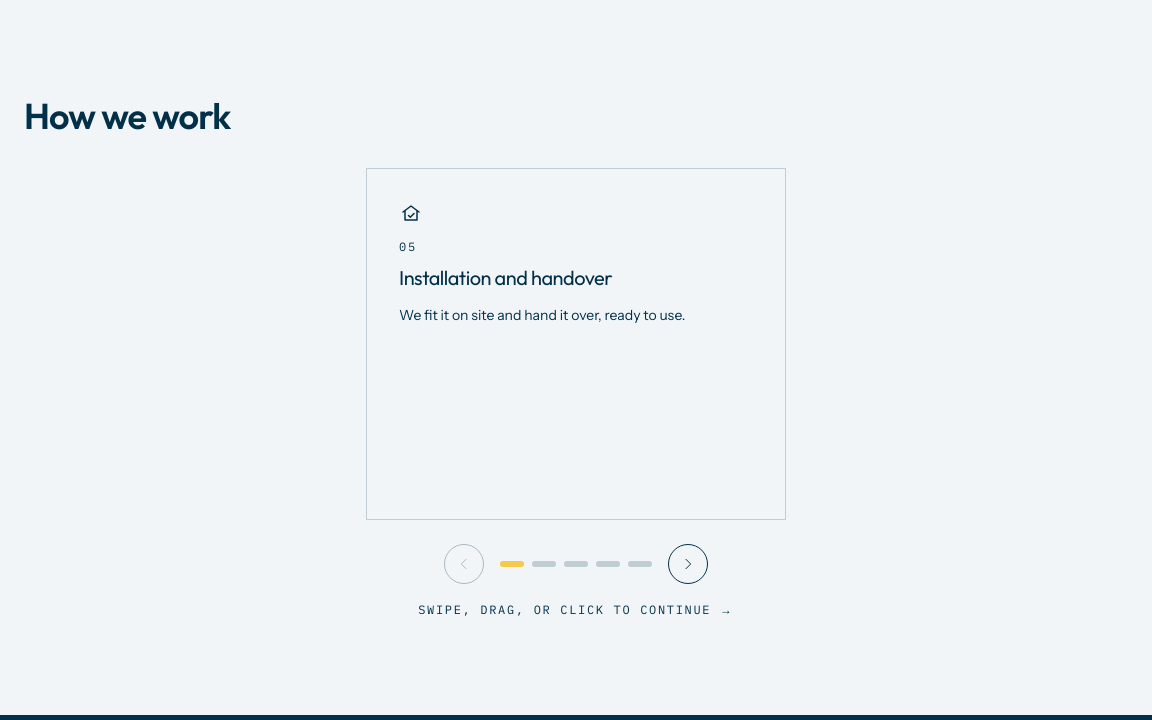
Test: HowWeWork › at full motion (page-turning book) › disables the previous button on the first page and the next button on the last
Expected: the button named "Previous step" is disabled, x1=444 y1=544 x2=484 y2=584
What coordinates should you click on to do the following:
click the button named "Next step"
I would click on:
 (688, 564)
Its box is x1=668 y1=544 x2=708 y2=584.
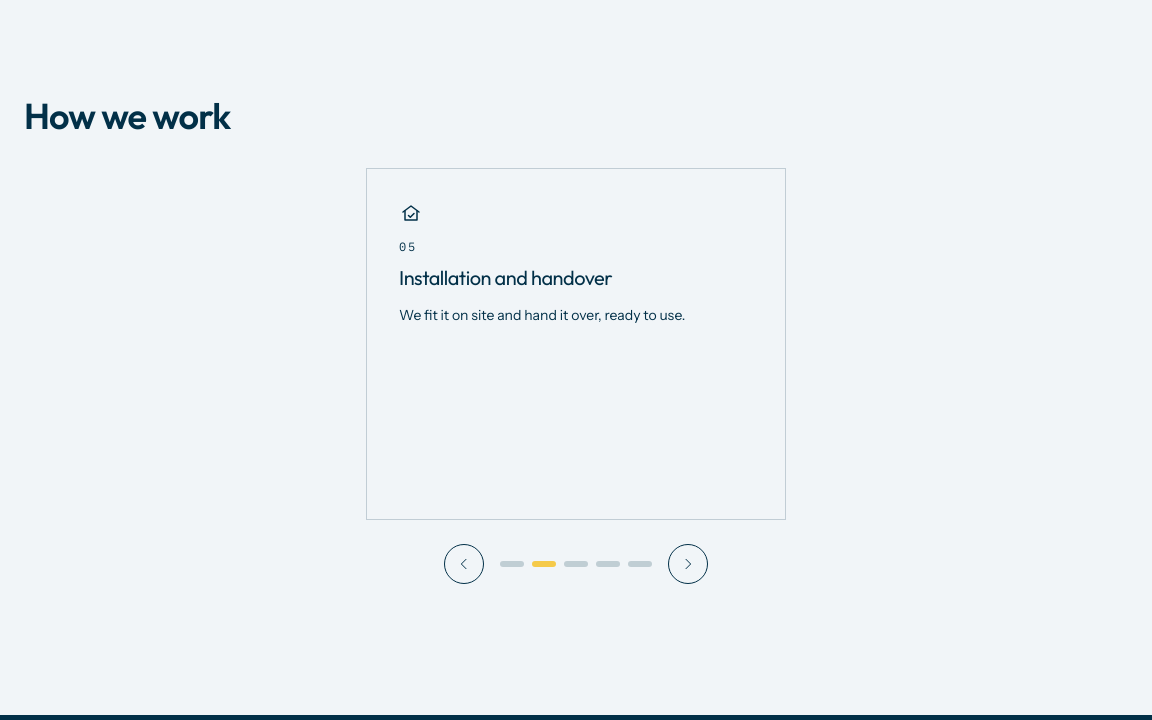
What coordinates should you click on to do the following:
click the button named "Next step"
I would click on:
 (688, 564)
Its box is x1=668 y1=544 x2=708 y2=584.
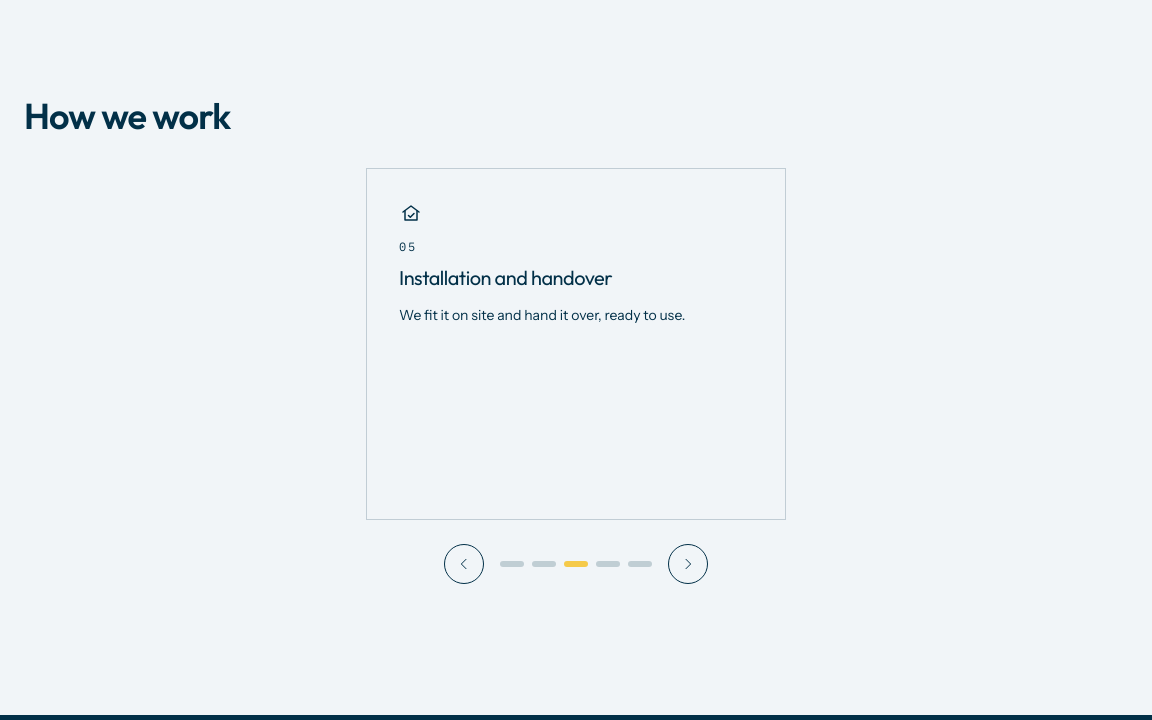
What coordinates should you click on to do the following:
click the button named "Next step"
I would click on:
 (688, 564)
Its box is x1=668 y1=544 x2=708 y2=584.
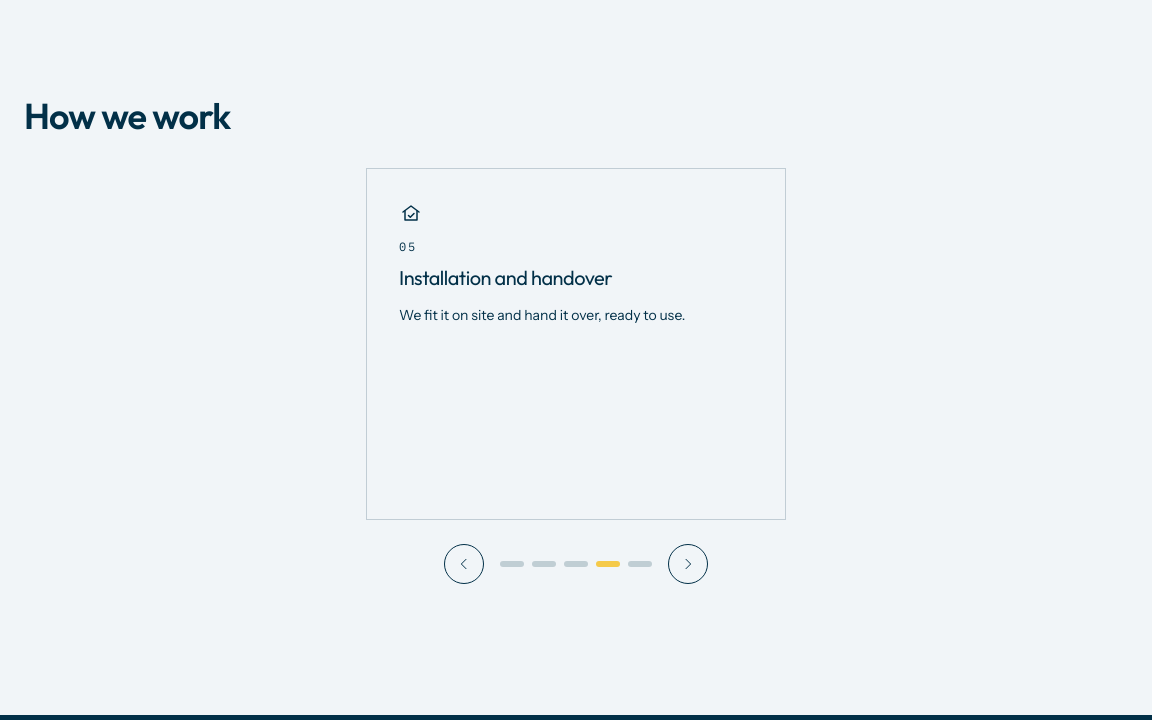
What coordinates should you click on to do the following:
click the button named "Next step"
I would click on:
 (688, 564)
Its box is x1=668 y1=544 x2=708 y2=584.
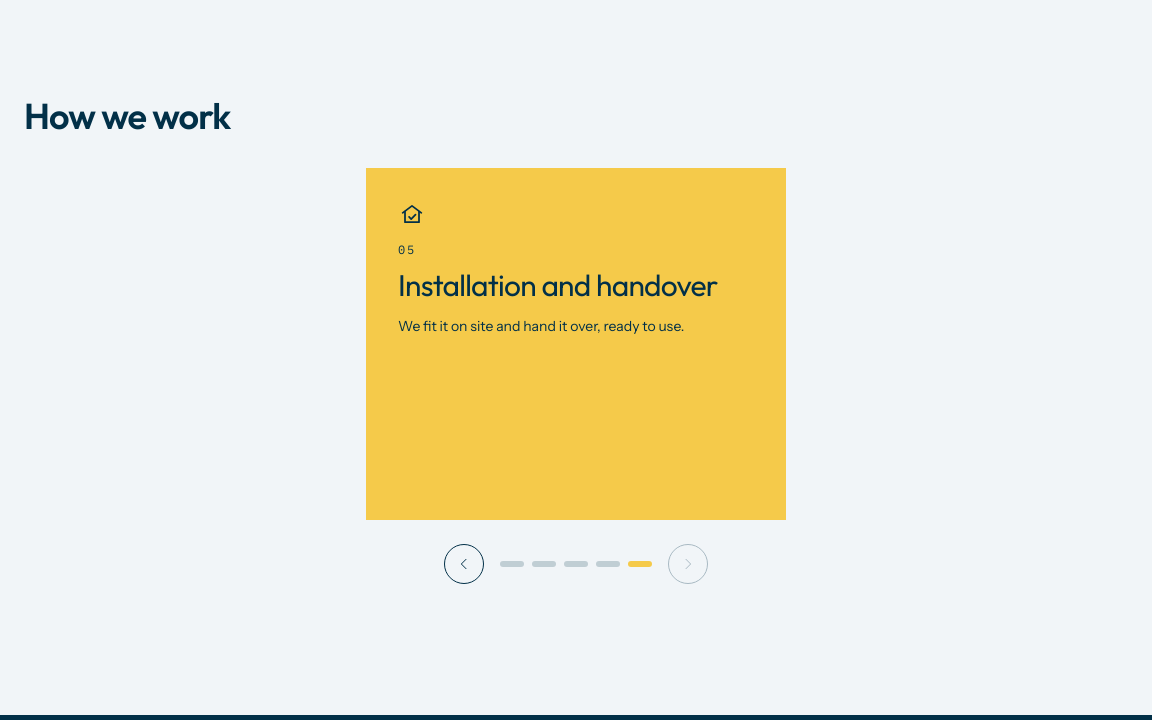
Expected: the button named "Next step" is disabled, x1=668 y1=544 x2=708 y2=584
